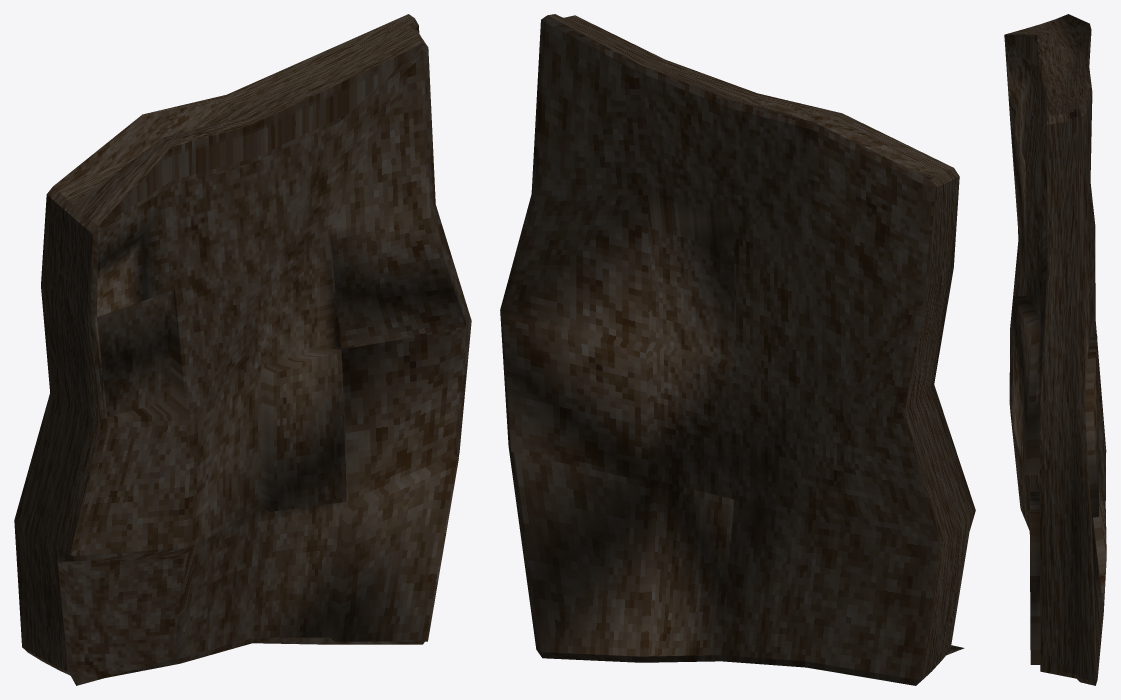
File: wall_plate1.glb
3 renders of one model, left to right at view 1: azimuth 30°, elevation 25°; view 2: azimuth 150°, elevation 25°; view 3: azimuth 270°, elevation 25°, orthographic. The views are drawn at different scales.
Visible parts, largest first — view 1: Cube; view 2: Cube; view 3: Cube.
Part boxes in pixels (x1,y1,x2,y2): Cube: (14,14,471,685); Cube: (500,14,975,685); Cube: (1004,14,1106,685).
Size of the model in its own units: 0.1485 by 0.2026 by 0.0325.
1 material, 1 textured.
